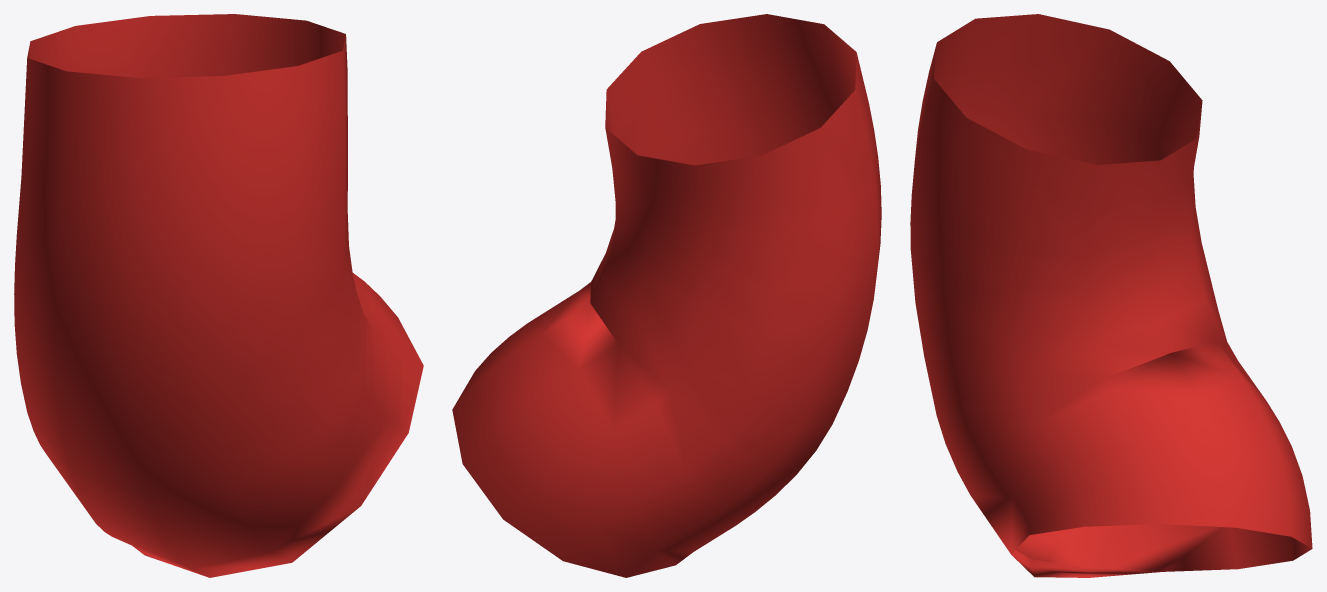
File: circulatorio-ascending-aorta.glb
The picture shows the model from 3 angles, left to right: view 1: azimuth 30°, elevation 25°; view 2: azimuth 150°, elevation 25°; view 3: azimuth 270°, elevation 25°; orthographic projection. The views are drawn at different scales.
Visible parts, largest first — view 1: Ascending aorta; view 2: Ascending aorta; view 3: Ascending aorta.
Boxes of the visible parts, <box> form: Ascending aorta: <box>14,14,423,577</box>; Ascending aorta: <box>452,14,881,577</box>; Ascending aorta: <box>910,14,1312,577</box>.
Size of the model in its own units: 0.0416 by 0.0555 by 0.0399.
